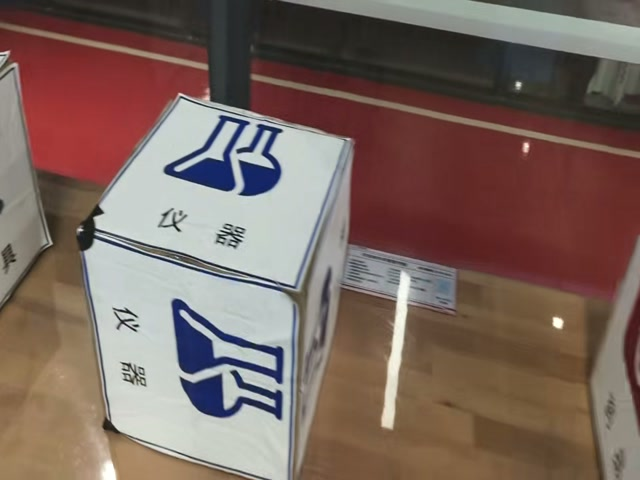Cube_ins: (77, 90, 349, 296)
